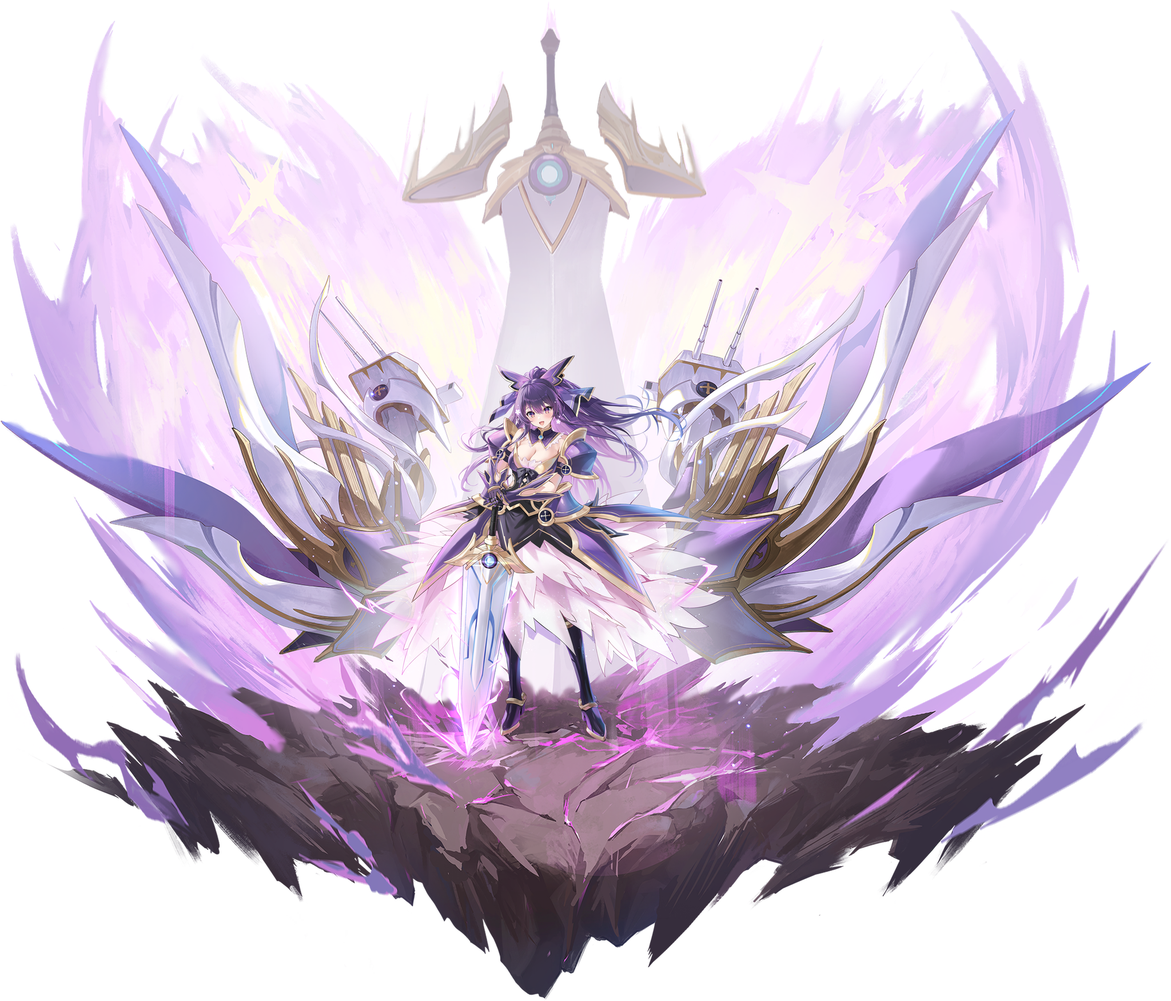person: (395, 337, 704, 779)
